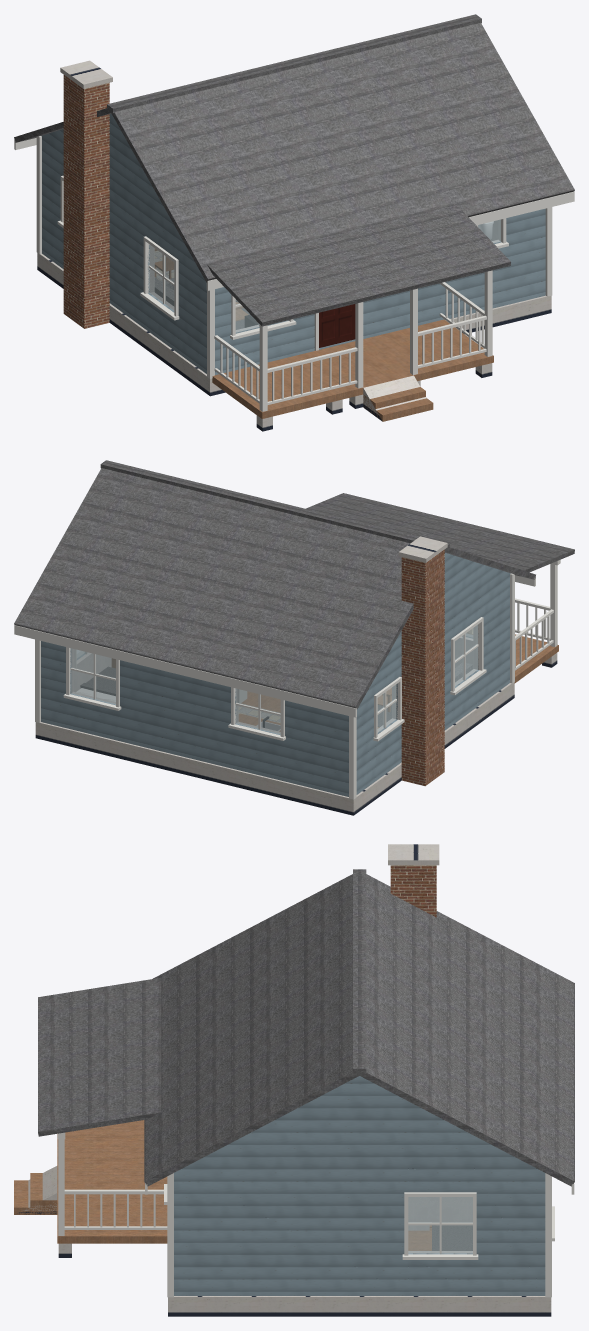
Rendered from MillbrookHouse.fbx.
The picture shows the model from 3 angles, top to bottom: view 1: azimuth 30°, elevation 25°; view 2: azimuth 150°, elevation 25°; view 3: azimuth 270°, elevation 25°; orthographic projection. The views are drawn at different scales.
Visible parts, largest first — view 1: House_Shell, House_Glass, House_Door_Front, COL_Porch_Steps; view 2: House_Shell, House_Glass, House_WindowCross, Furn_Bed, Furn_Kitchen; view 3: House_Shell, House_Glass, Furn_Bed, COL_Porch_Steps.
Part boxes in pixels (box(x1,y1,x2,y2)): House_Shell: box(14, 14, 574, 431); House_Glass: box(150, 219, 500, 332); House_Door_Front: box(319, 304, 355, 347); COL_Porch_Steps: box(363, 375, 426, 421); House_Shell: box(14, 460, 574, 815); House_Glass: box(71, 625, 477, 733); House_WindowCross: box(70, 634, 478, 729); Furn_Bed: box(76, 667, 115, 701); Furn_Kitchen: box(237, 689, 280, 731); House_Shell: box(14, 844, 574, 1316); House_Glass: box(408, 1197, 472, 1252); Furn_Bed: box(430, 1225, 472, 1250); COL_Porch_Steps: box(19, 1166, 57, 1214).
Size of the model in its own units: 907 by 557 by 1039.
